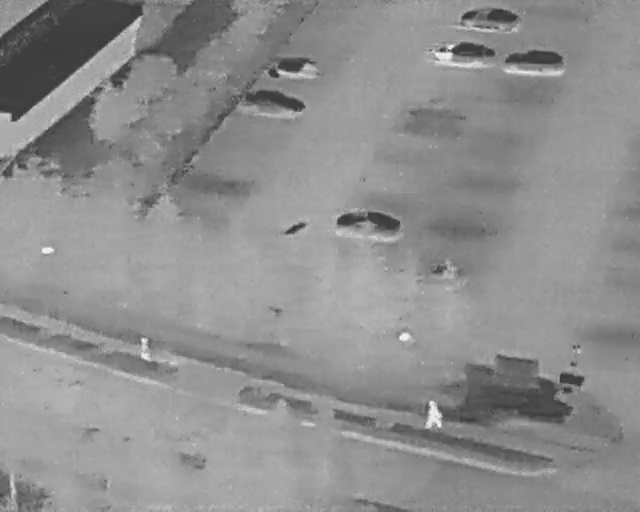Car: (234, 84, 309, 121), (335, 207, 404, 241), (426, 38, 497, 71), (264, 50, 326, 84), (457, 4, 523, 35), (501, 48, 569, 78)
Person: (421, 400, 444, 429), (137, 333, 153, 363)
